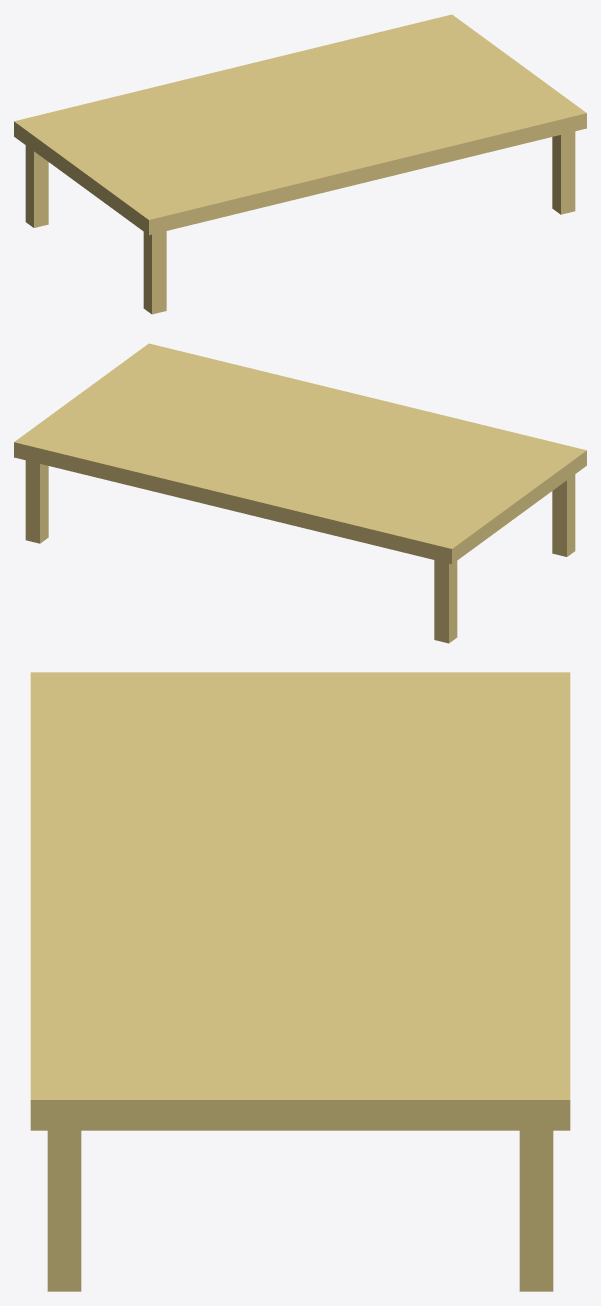
File: m_coloniusLory_Table.fbx
3 renders of one model, top to bottom at view 1: azimuth 30°, elevation 25°; view 2: azimuth 150°, elevation 25°; view 3: azimuth 270°, elevation 25°, orthographic. The views are drawn at different scales.
Parts seen in each view (by area): view 1: m_coloniusLory_Table; view 2: m_coloniusLory_Table; view 3: m_coloniusLory_Table.
Boxes of the visible parts, x1,y1,x2,y2 form: m_coloniusLory_Table: (14, 14, 586, 314); m_coloniusLory_Table: (14, 343, 586, 643); m_coloniusLory_Table: (30, 672, 570, 1291).
Bounding box in the file's own units: 150 × 32.5 × 80.
